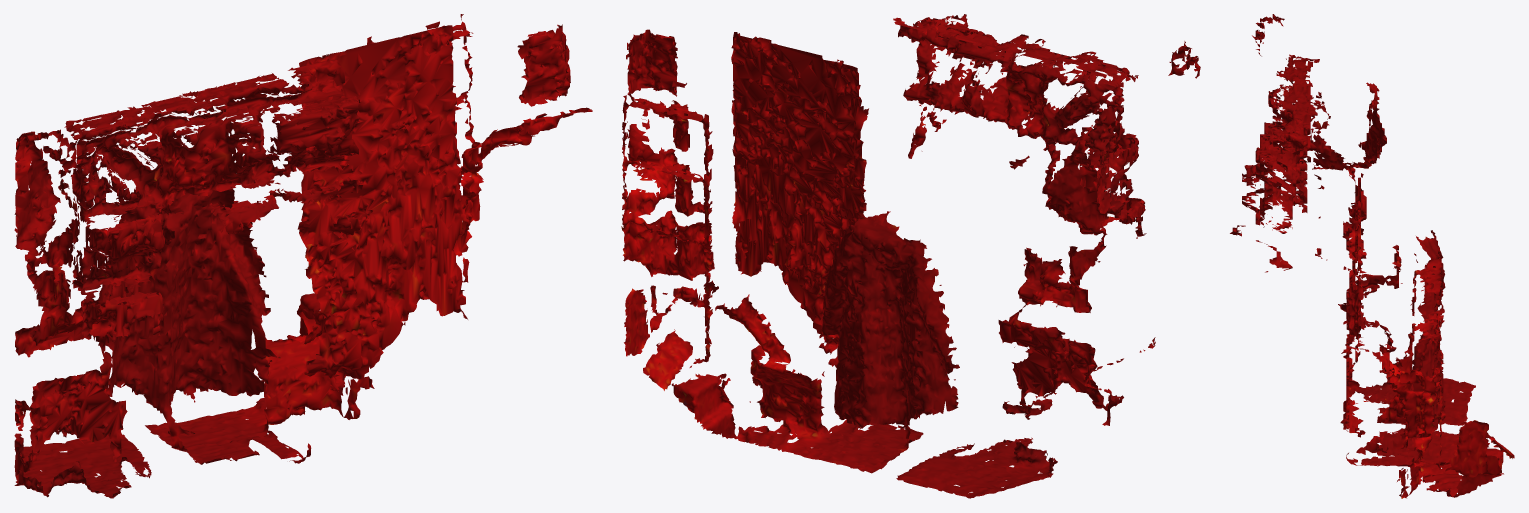
Rendered from mesh_iter_0001.obj.
3 renders of one model, left to right at view 1: azimuth 30°, elevation 25°; view 2: azimuth 150°, elevation 25°; view 3: azimuth 270°, elevation 25°, orthographic. The views are drawn at different scales.
Size of the model in its own units: 3.02 by 2.14 by 1.63.
